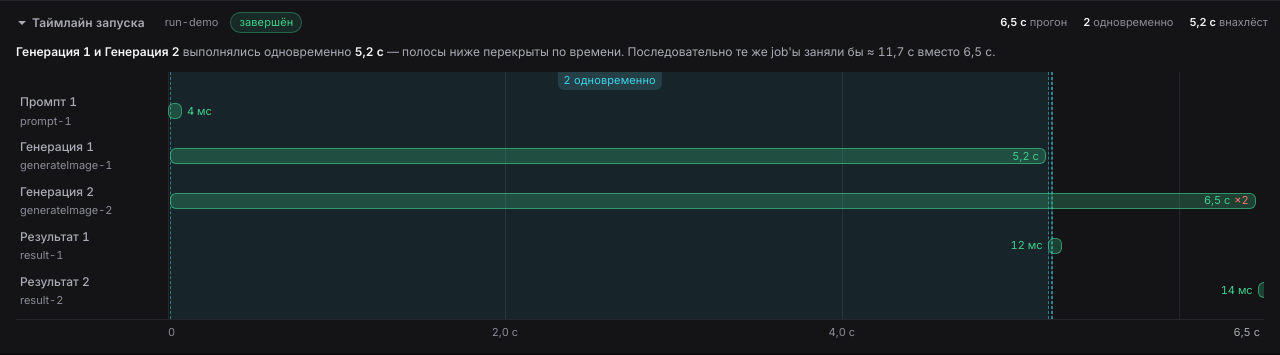
Scenario: таймлайн запуска › шапку можно свернуть — полка не занимает экран, когда не нужна
Click the button "Таймлайн запуска" at (82, 23), box x1=12 y1=9 x2=153 y2=36
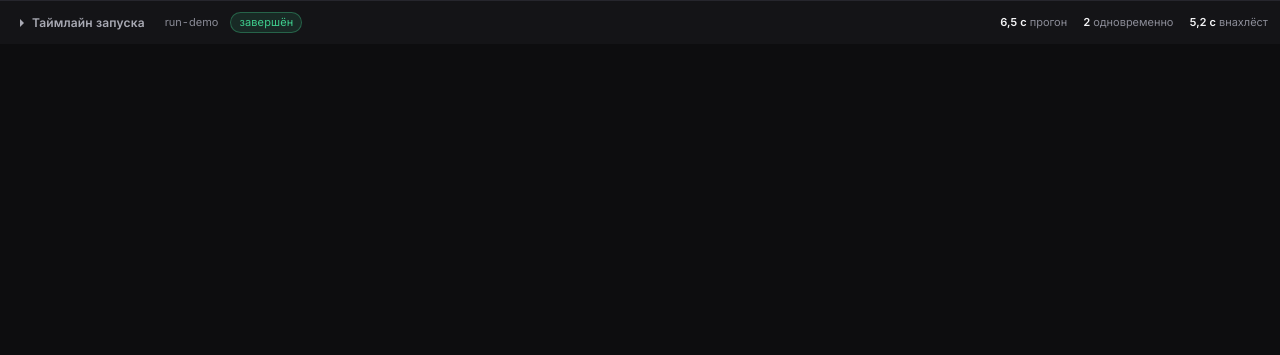
expect the element with test id "timeline-bar" is gone: met
